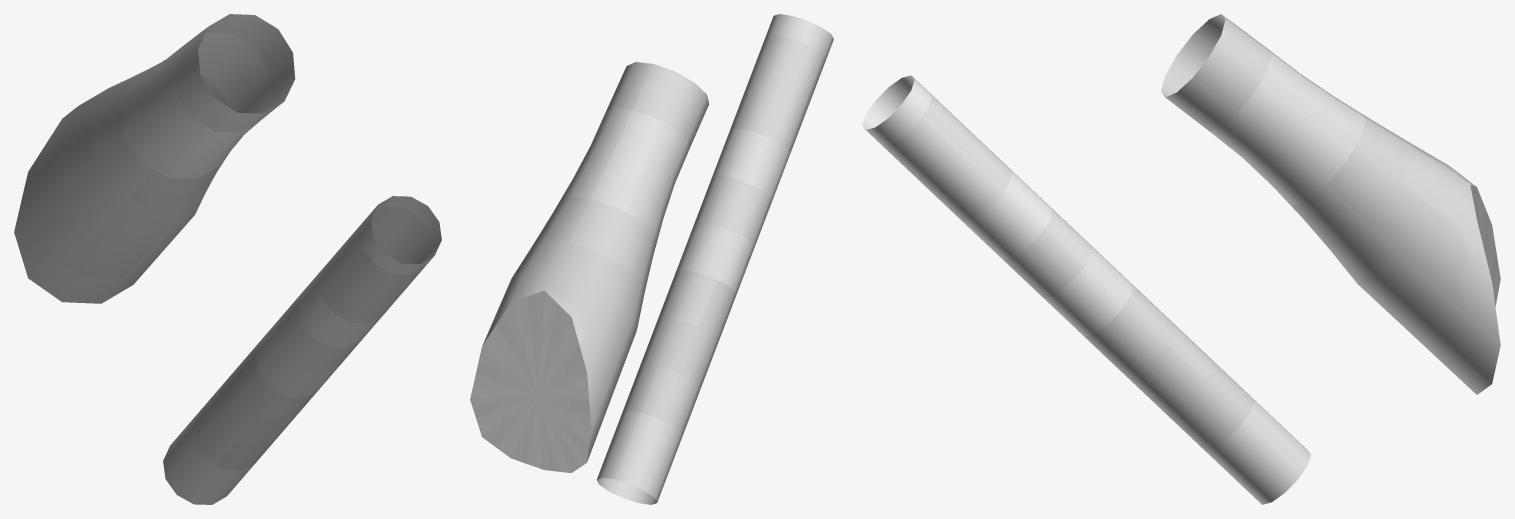
File: luminairearm_truss8ftdouble_c7_thin.obj
3 renders of one model, left to right at view 1: azimuth 30°, elevation 25°; view 2: azimuth 150°, elevation 25°; view 3: azimuth 270°, elevation 25°, orthographic. The views are drawn at different scales.
Visible parts, largest first — view 1: luminairearm_truss8ftdouble_c7_thin; view 2: luminairearm_truss8ftdouble_c7_thin; view 3: luminairearm_truss8ftdouble_c7_thin.
Part boxes in pixels (left/top/right/bottom): luminairearm_truss8ftdouble_c7_thin: left=14, top=14, right=441, bottom=504; luminairearm_truss8ftdouble_c7_thin: left=470, top=14, right=833, bottom=504; luminairearm_truss8ftdouble_c7_thin: left=862, top=14, right=1500, bottom=504.
Bounding box in the file's own units: 0.3375 × 1.14 × 1.37.
